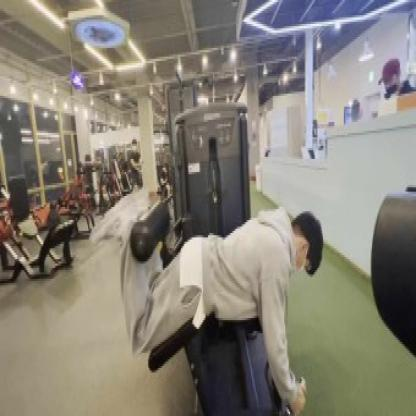reg curl machine: (87, 98, 324, 416)
